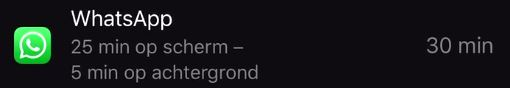name: (64, 5, 180, 35)
time: (66, 38, 132, 60), (66, 62, 123, 87)
